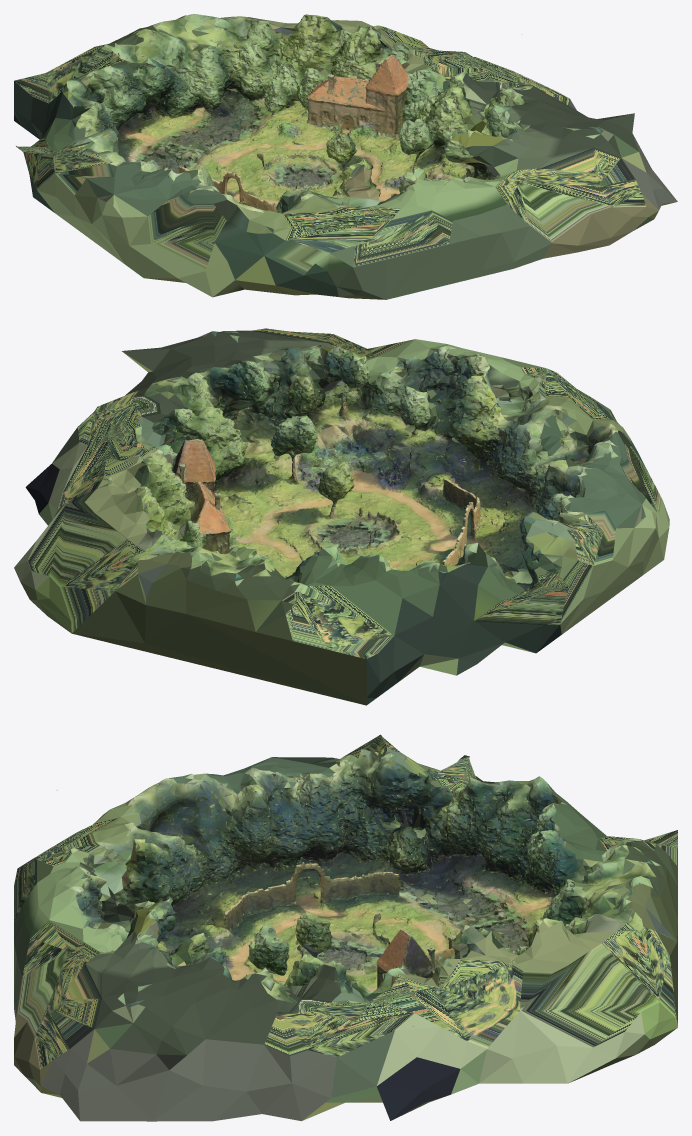
The model's file is garden5.glb.
3 renders of one model, top to bottom at view 1: azimuth 30°, elevation 25°; view 2: azimuth 150°, elevation 25°; view 3: azimuth 270°, elevation 25°, orthographic. The views are drawn at different scales.
Parts seen in each view (by area): view 1: mesh_Model_4; view 2: mesh_Model_4; view 3: mesh_Model_4.
Part boxes in pixels (box(x1,y1,x2,y2)): mesh_Model_4: box(14, 14, 677, 299); mesh_Model_4: box(14, 328, 669, 705); mesh_Model_4: box(14, 734, 677, 1121).
Size of the model in its own units: 46 by 8.14 by 43.8.
Materials: 1 (1 with a texture image).
